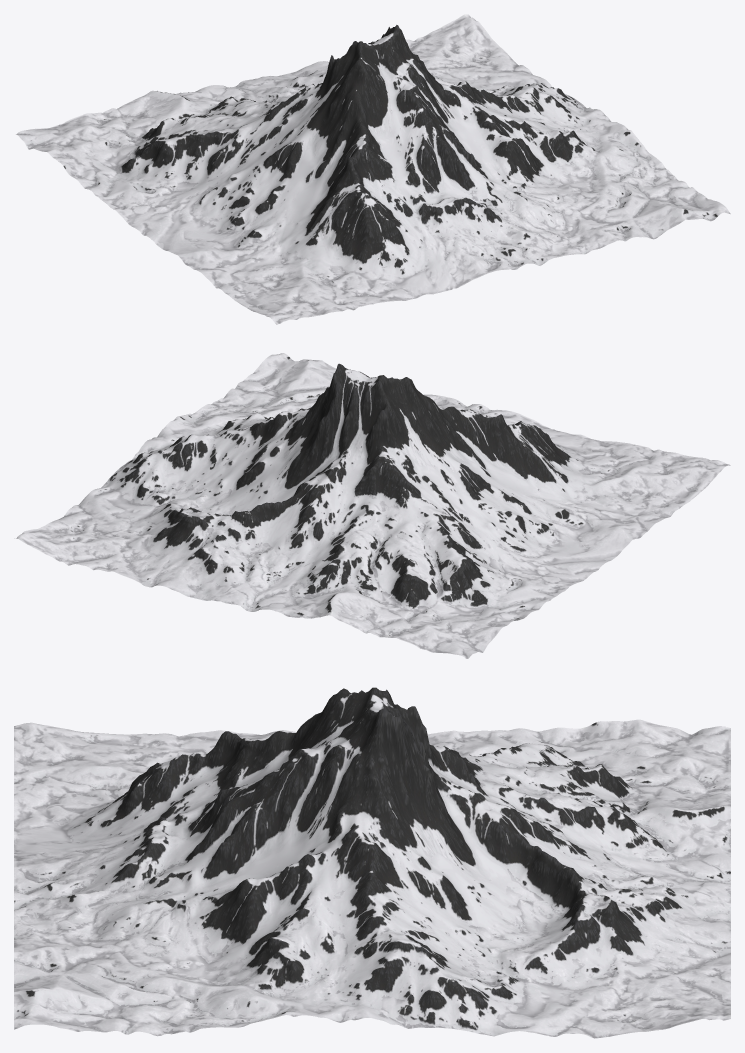
Rendered from snowy_mountain_v1.glb.
3 renders of one model, top to bottom at view 1: azimuth 30°, elevation 25°; view 2: azimuth 150°, elevation 25°; view 3: azimuth 270°, elevation 25°, orthographic. The views are drawn at different scales.
Parts seen in each view (by area): view 1: Snow_Mountain_001; view 2: Snow_Mountain_001; view 3: Snow_Mountain_001.
Boxes of the visible parts, bbox=[...] form: Snow_Mountain_001: bbox=[16, 14, 730, 324]; Snow_Mountain_001: bbox=[14, 353, 730, 658]; Snow_Mountain_001: bbox=[14, 687, 730, 1038].
Bounding box in the file's own units: 2 × 0.6128 × 2.
Materials: 1 (1 with a texture image).
